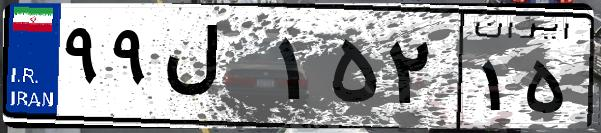1: (270, 28, 330, 110), (475, 38, 525, 113)
2: (385, 28, 445, 110)
5: (330, 28, 385, 110), (525, 38, 570, 115)
9: (57, 26, 110, 100), (110, 28, 158, 98)
ل: (158, 20, 270, 120)
